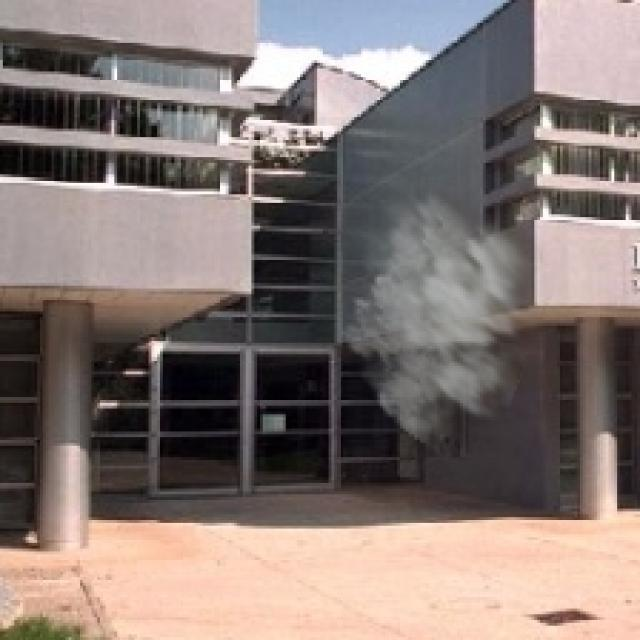Smoke: (337, 180, 563, 457)
